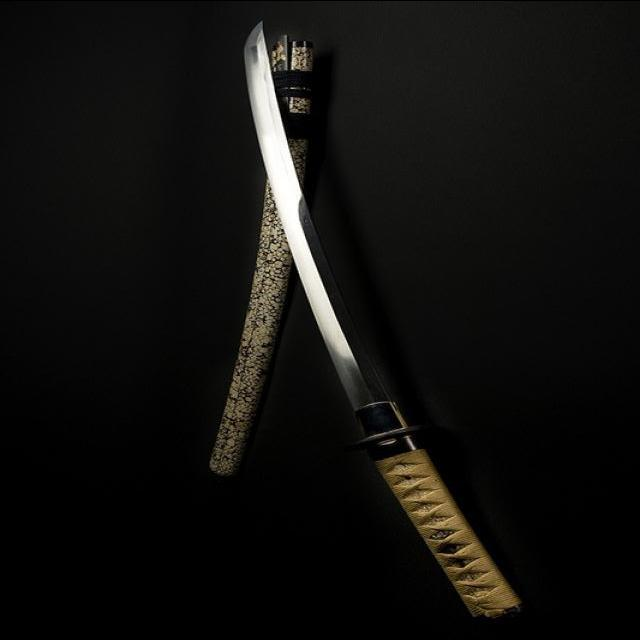katana: (241, 18, 532, 626)
